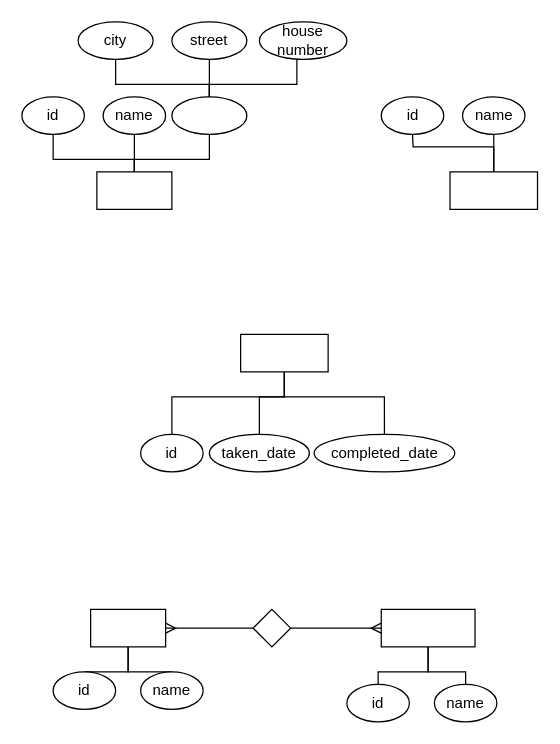
The diagram is 560 pixels wide and 744 high, and some of its shapes have lost their labels. The centre of each missing label's shape, as x and y in pixels:
address: point (209, 115)
Customer: point (134, 190)
Employee: point (493, 190)
Ingredient: point (427, 627)
Order: point (283, 352)
Pizza: point (127, 627)
